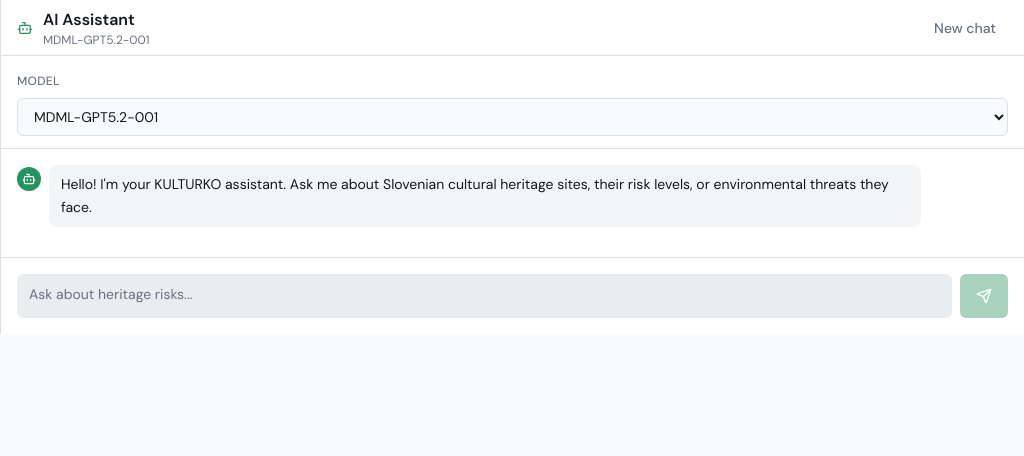
Test: ChatSidebar › resets the conversation and sends the next request without previous history
The width and height of the screenshot is (1024, 456).
In the text box named "ask the ai assistant about heritage risks": (484, 296) [17,274,952,318], type "First question"
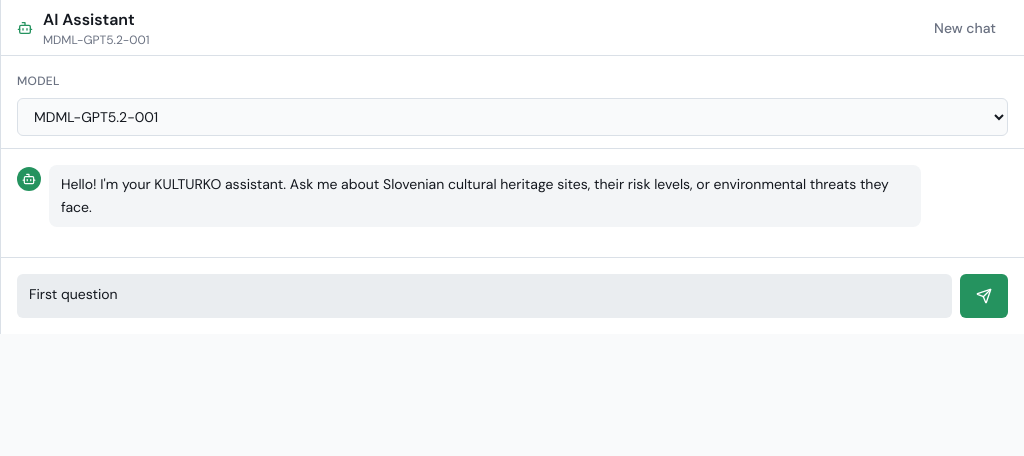
Click the button named "send message": (984, 296) [960,274,1008,318]
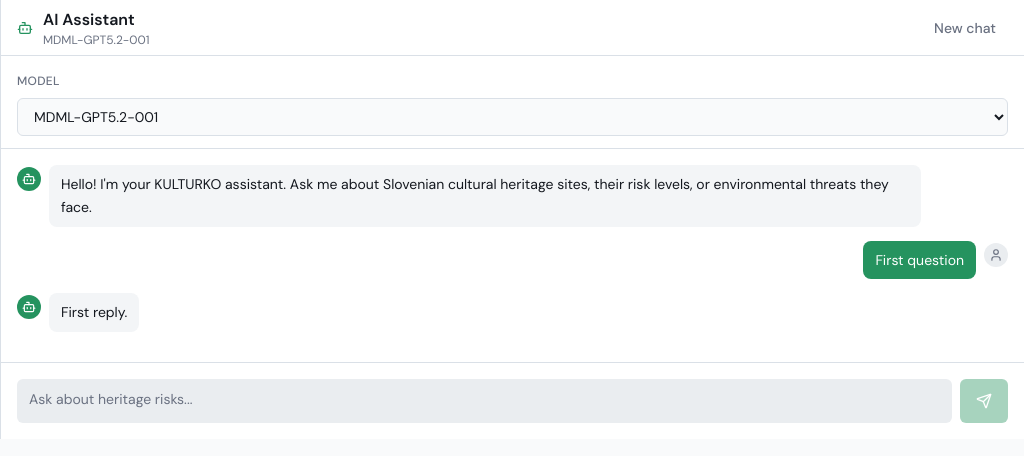
Now the text "First reply." is shown, box [61,301,127,324]
Now the text "First question" is shown, box [875,248,964,271]
Click the button with aria-label "start a new chat": (965, 28) [922,10,1008,46]
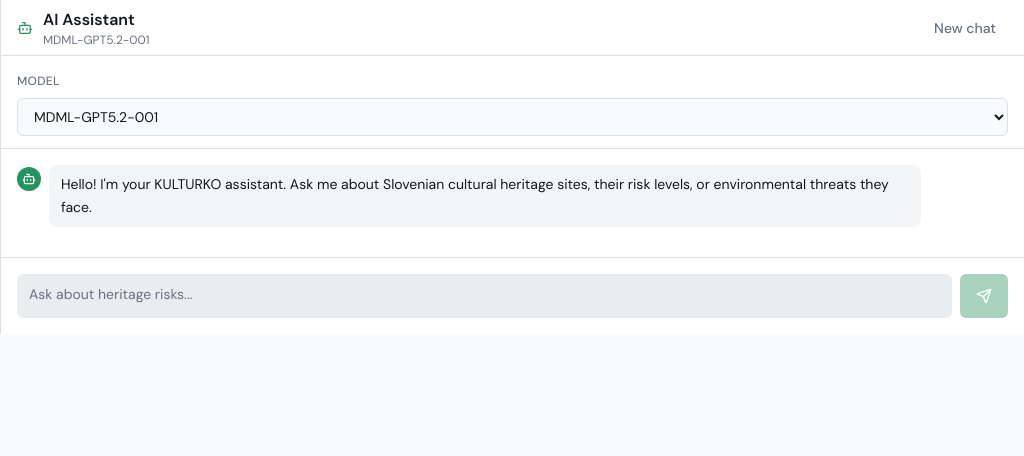
Now the text "First question" is gone
Now the text "First reply." is gone
In the text box named "ask the ai assistant about heritage risks": (484, 296) [17,274,952,318], type "Second question"
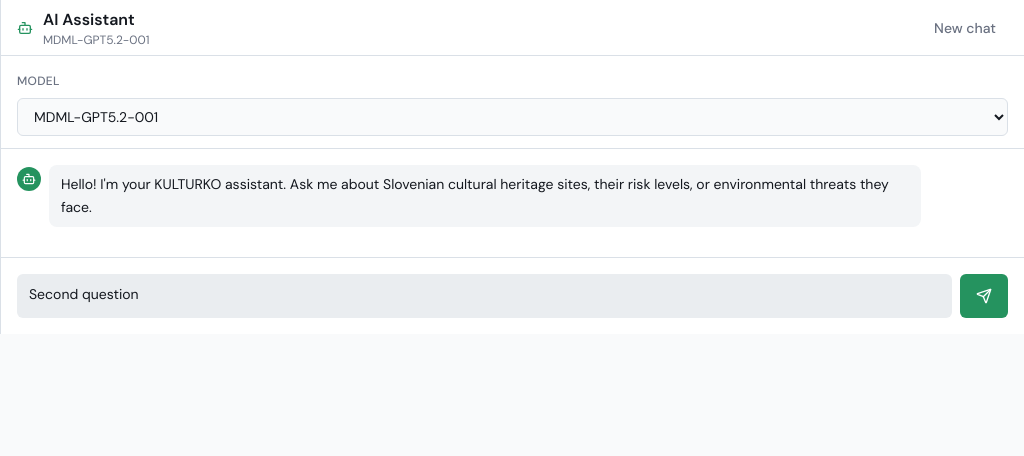
Click the button named "send message": (984, 296) [960,274,1008,318]
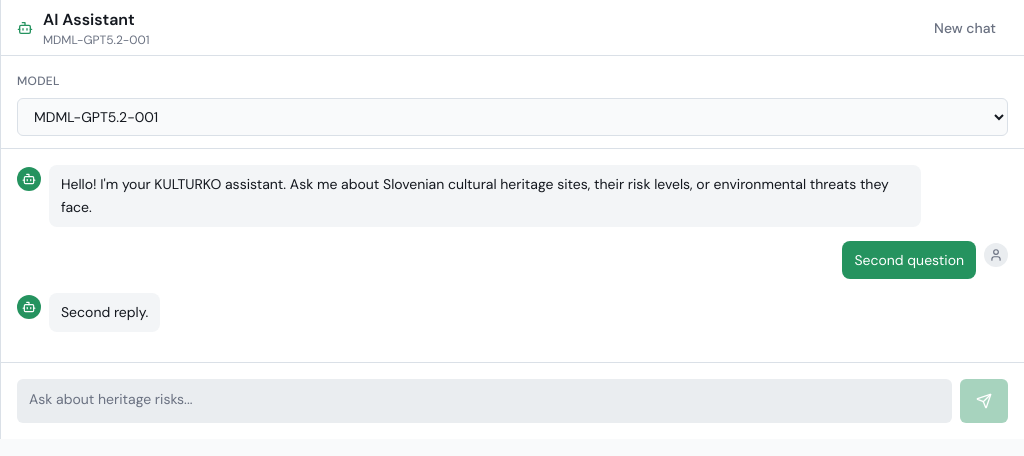
Now the text "Second reply." is shown, box [61,301,148,324]
